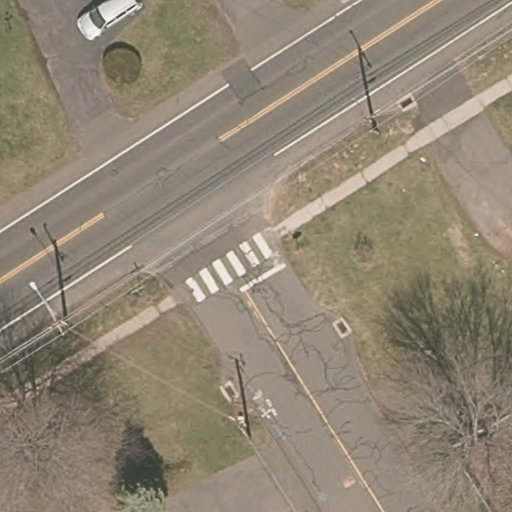DT: (26, 280, 69, 327), (352, 98, 381, 134), (225, 412, 255, 437)
